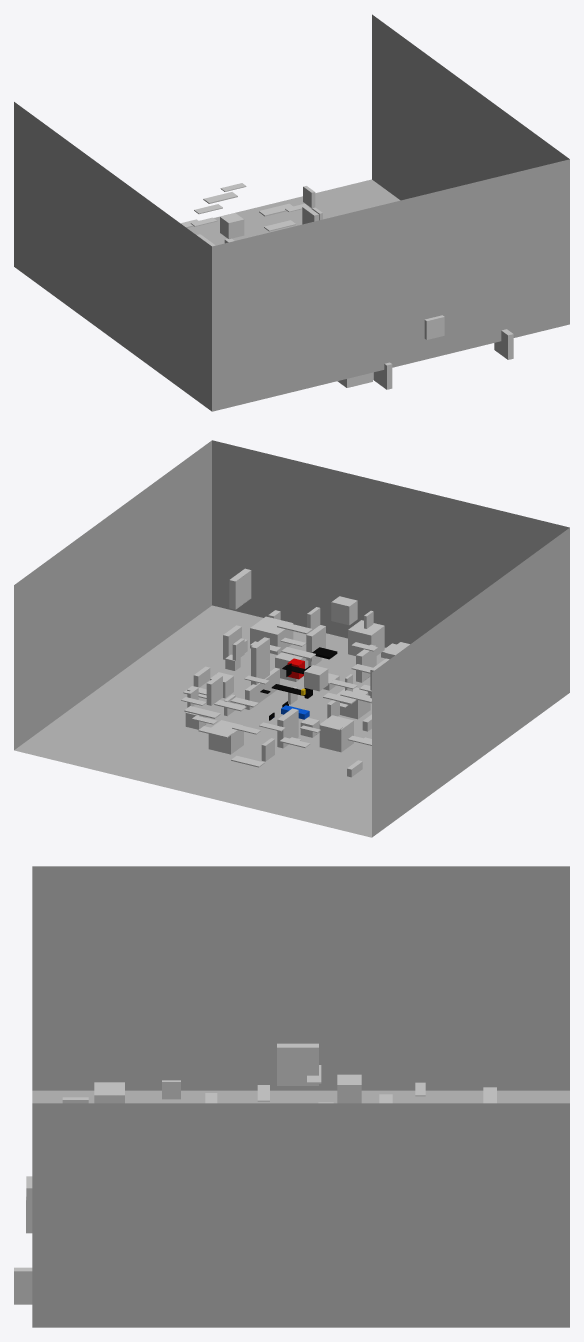
Rendered from GORIN_GLTF_BAKED.gltf.
The picture shows the model from 3 angles, top to bottom: view 1: azimuth 30°, elevation 25°; view 2: azimuth 150°, elevation 25°; view 3: azimuth 270°, elevation 25°; orthographic projection. The views are drawn at different scales.
Parts seen in each view (by area): view 1: CUBE, RANDOM_BOX, RANDOM_PLATE; view 2: CUBE, RANDOM_BOX, RANDOM_PLATE, 3D_ART; view 3: CUBE, RANDOM_BOX, RANDOM_PLATE.
Part boxes in pixels (box(x1,y1,x2,y2)): CUBE: box(14, 14, 569, 411); RANDOM_BOX: box(197, 186, 513, 389); RANDOM_PLATE: box(181, 183, 309, 231); CUBE: box(14, 440, 569, 837); RANDOM_BOX: box(185, 568, 409, 777); RANDOM_PLATE: box(181, 622, 377, 767); 3D_ART: box(260, 647, 337, 720); CUBE: box(32, 866, 569, 1327); RANDOM_BOX: box(14, 1043, 361, 1304); RANDOM_PLATE: box(205, 1065, 496, 1103).
Size of the model in its own units: 86138 by 42501 by 85405.
Materials: 4 (4 with a texture image).
